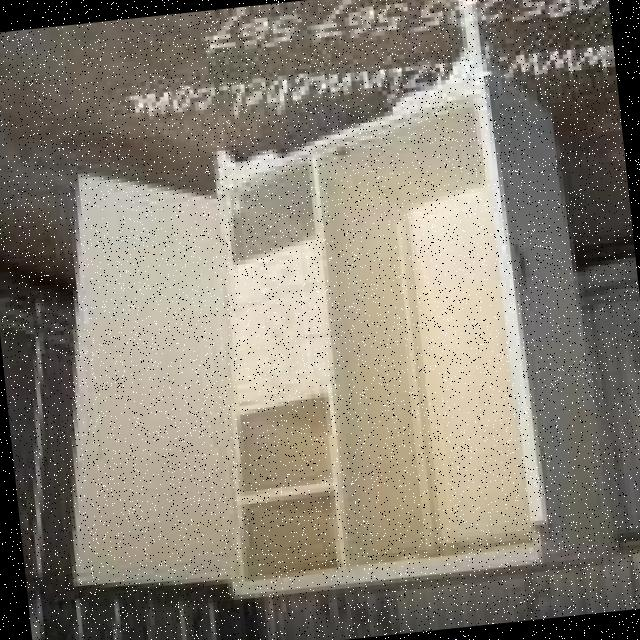Closet: (13, 36, 620, 631)
